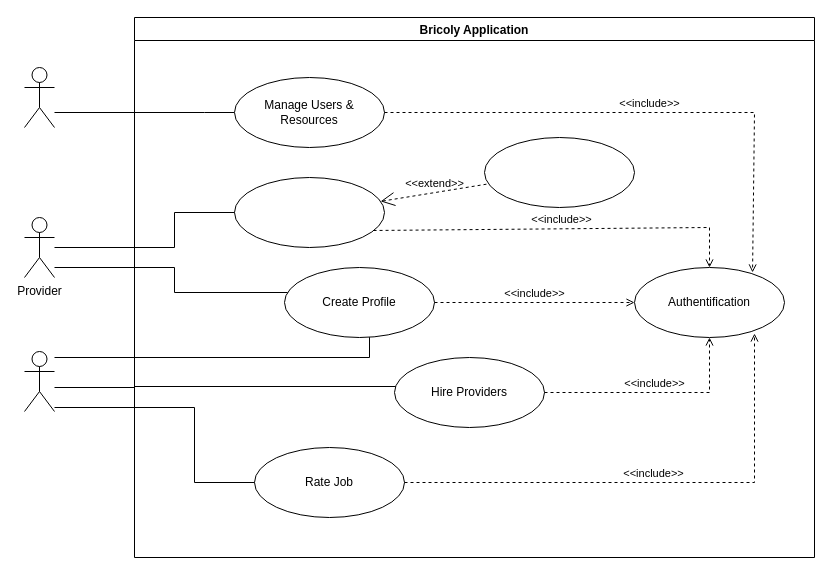
Some shapes in this 832 by 575 pixel diagram are drawn without their labels. The shapes that lost their labels are listed below. From the top down, each one's centre as x and y in pixels, then its label:
At pixel 39 97: "Admin".
At pixel 559 172: "Accept Offer".
At pixel 309 212: "Create Offers".
At pixel 39 381: "Client".
